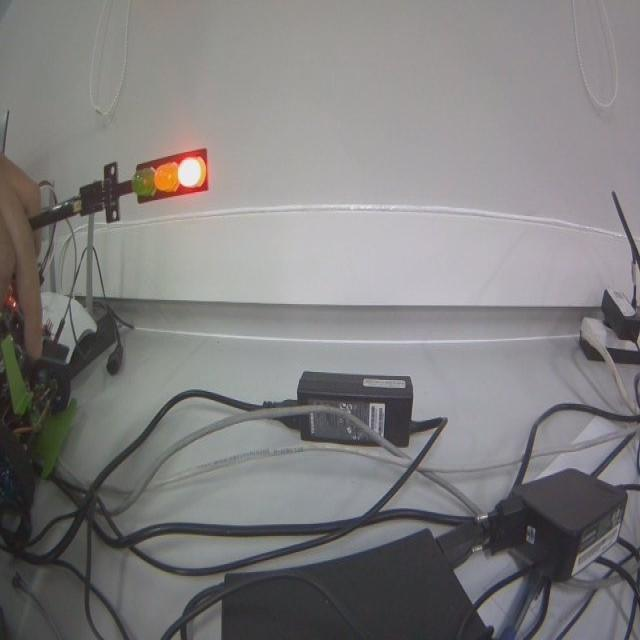Lampu Merah: (134, 148, 207, 197)
